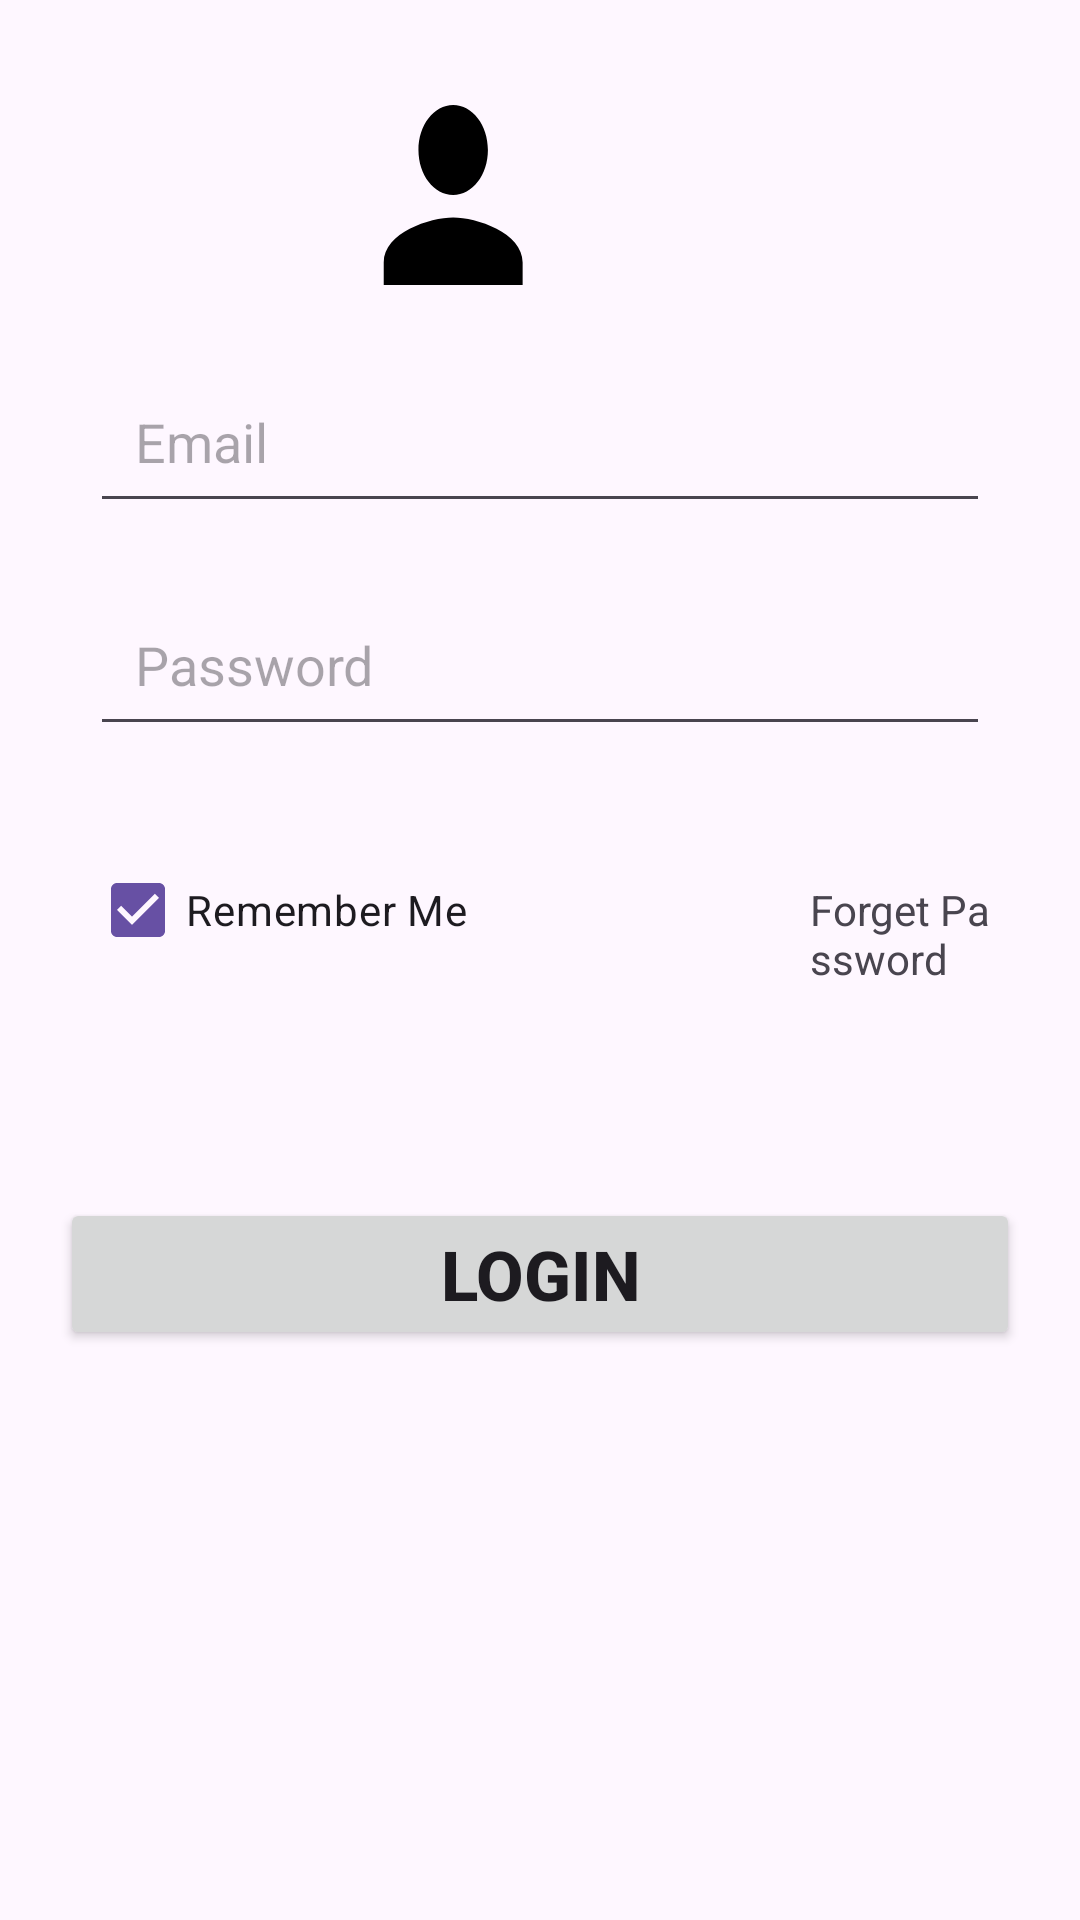

Icon click points for this 1080 x 1920 phone screenshot, format (x,y):
person: (453,195)
